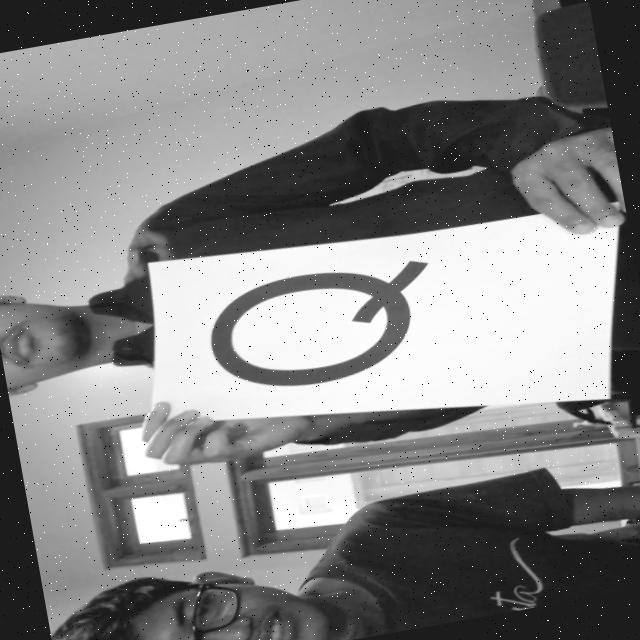q: (176, 222, 470, 424)
